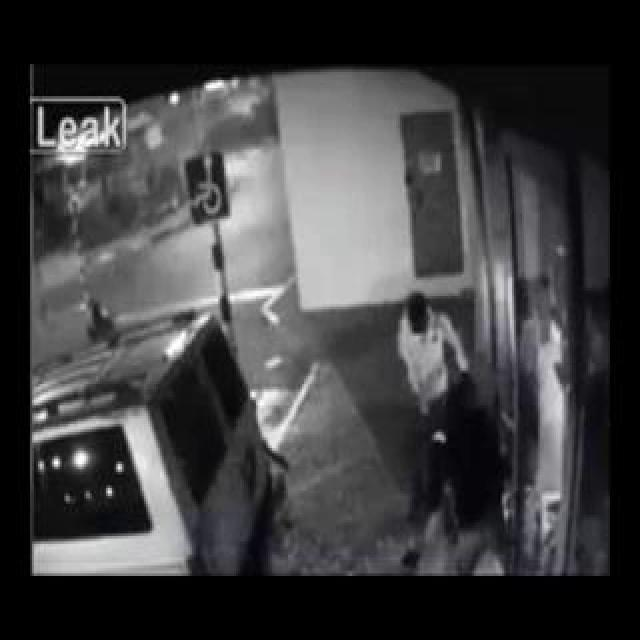burglary: (134, 0, 597, 626)
